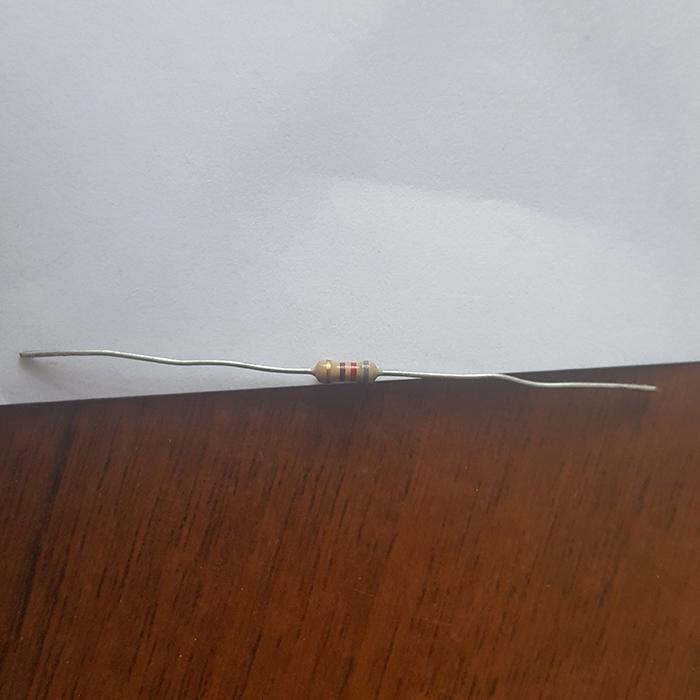resistor: (311, 358, 378, 384)
